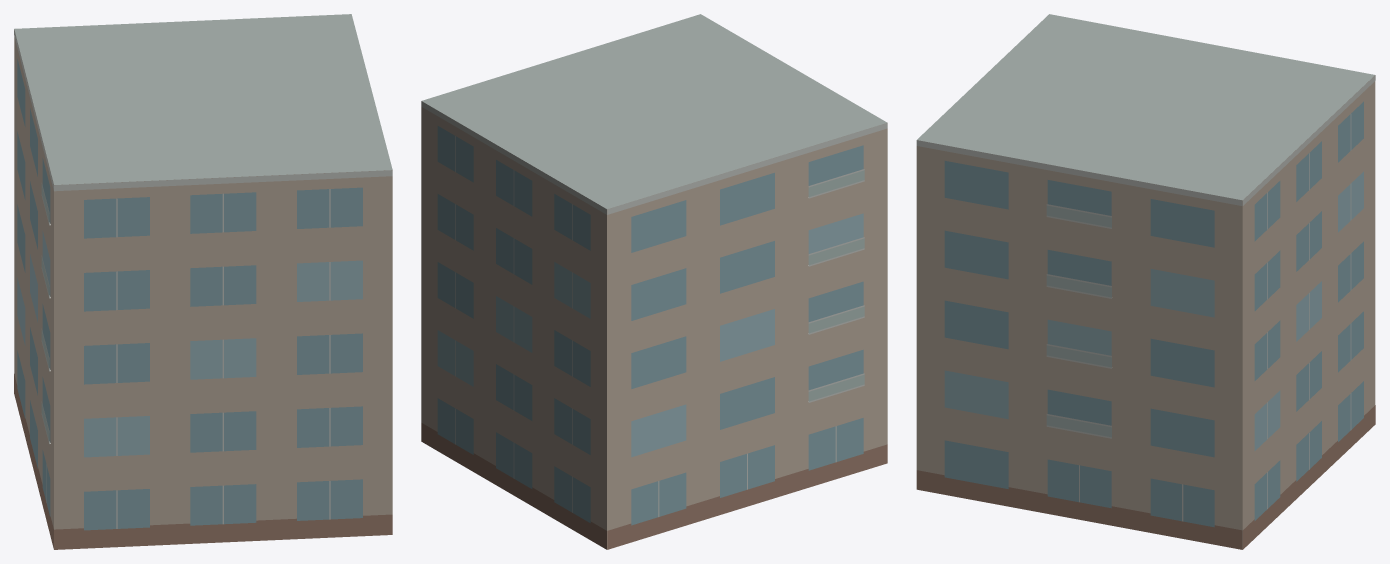
The model's file is survey-upis-32561084.glb.
3 renders of one model, left to right at view 1: azimuth 30°, elevation 25°; view 2: azimuth 150°, elevation 25°; view 3: azimuth 270°, elevation 25°, orthographic. The views are drawn at different scales.
Parts seen in each view (by area): view 1: survey-upis-32561084.tmp; view 2: survey-upis-32561084.tmp; view 3: survey-upis-32561084.tmp.
Part boxes in pixels (left/top/right/bottom): survey-upis-32561084.tmp: left=14, top=14, right=392, bottom=549; survey-upis-32561084.tmp: left=421, top=14, right=887, bottom=549; survey-upis-32561084.tmp: left=916, top=14, right=1375, bottom=549.
Size of the model in its own units: 16.59 by 14.5 by 17.26.
